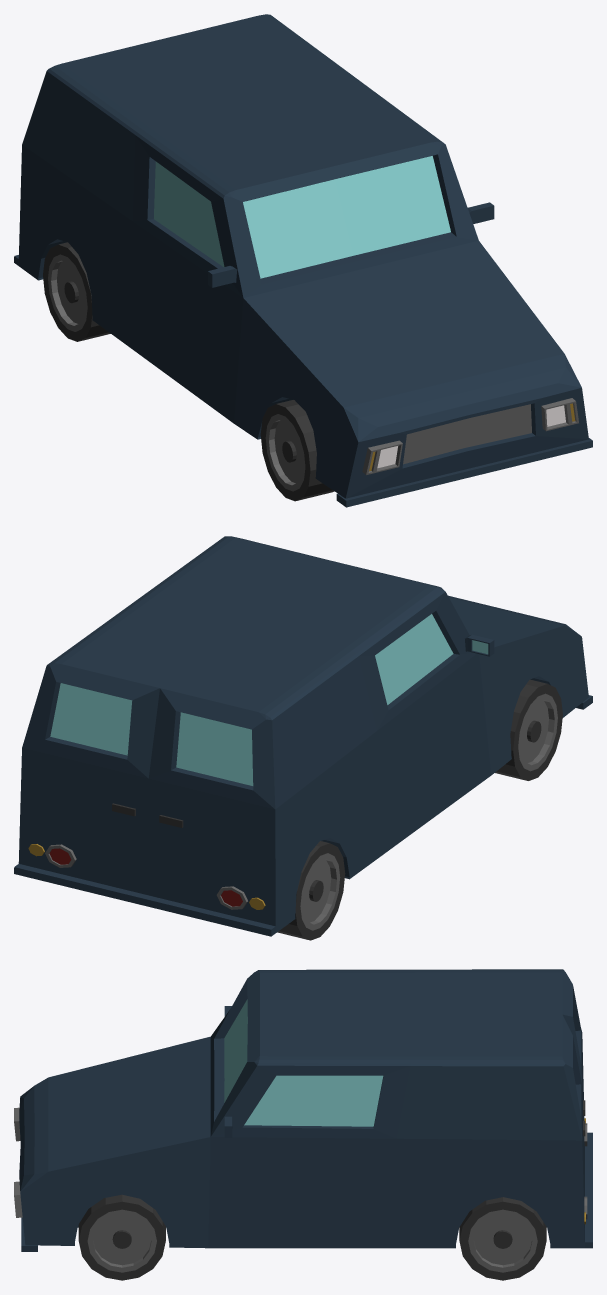
Rendered from VanCar(Old).fbx.
3 views of the same model, one above another, from view 1: azimuth 30°, elevation 25°; view 2: azimuth 150°, elevation 25°; view 3: azimuth 270°, elevation 25° (orthographic). The views are drawn at different scales.
Visible parts, largest first — view 1: Main, FRightTire, RRightTire; view 2: Main, FRightTire, RRightTire; view 3: Main, FLeftTire, RLeftTire.
Boxes of the visible parts, x1,y1,x2,y2 form: Main: (14,14,592,507); FRightTire: (260,400,334,501); RRightTire: (43,242,110,341); Main: (14,536,592,936); FRightTire: (495,679,562,780); RRightTire: (277,841,345,940); Main: (14,969,592,1251); FLeftTire: (78,1194,165,1280); RLeftTire: (459,1197,546,1280).
Bounding box in the file's own units: 162 × 133 × 329.
